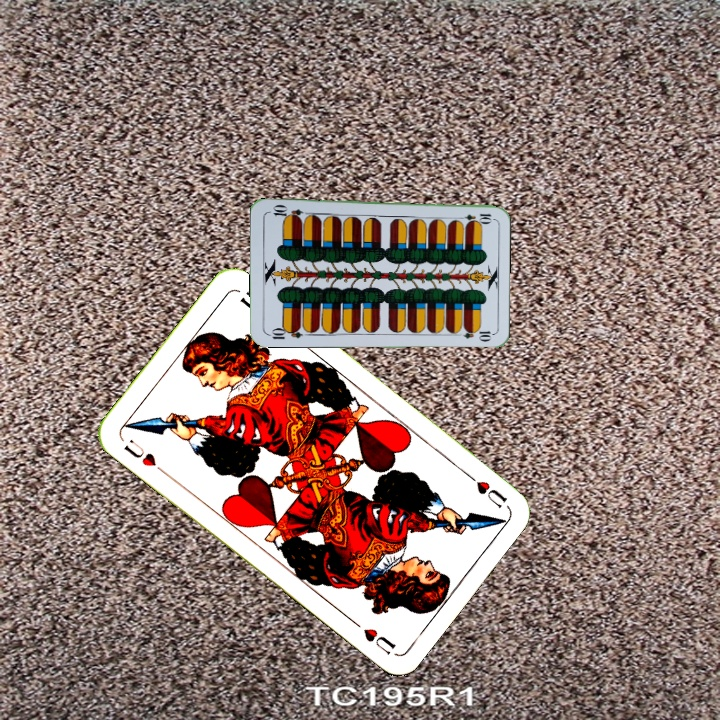E10: (264, 323, 304, 342), (453, 209, 494, 223)
HU: (460, 468, 510, 511), (120, 435, 168, 477)
